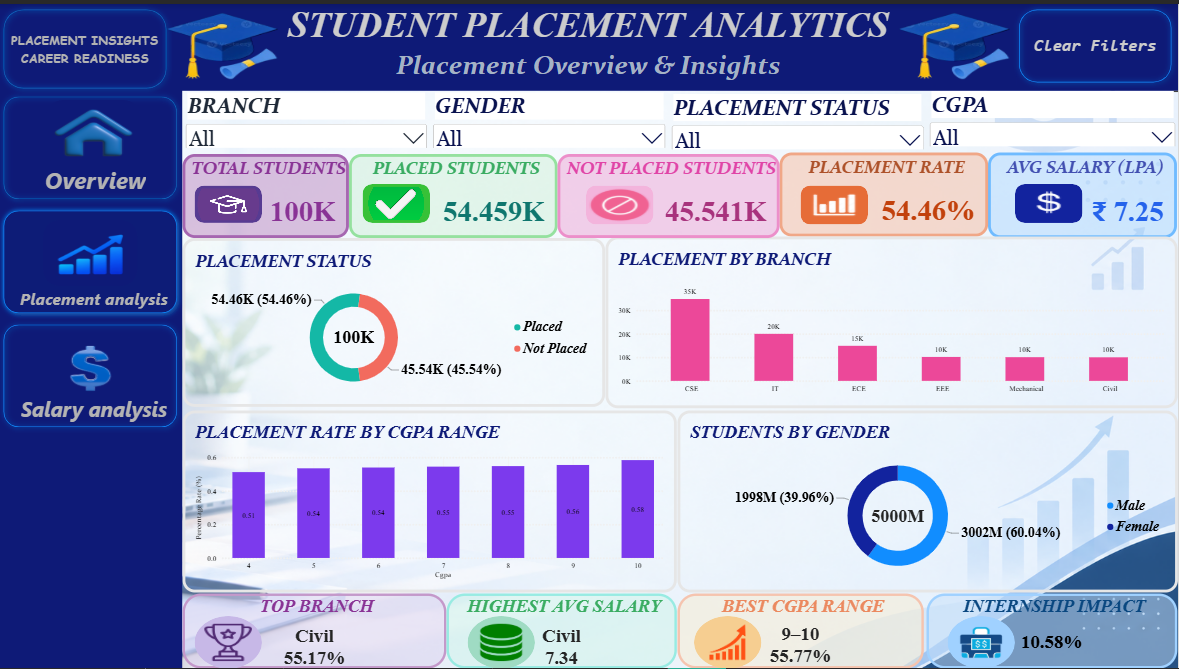

The dashboard page shown, as its layout file describes it:
{"tool":"powerbi","page":{"name":"Overview","canvas":[1920,1080],"ordinal":0},"visuals":[{"type":"textbox","title":"STUDENT PLACEMENT ANALYTICS","box":[0,0,1920,142.5],"z":0},{"type":"textbox","title":"Placement Overview & Insights","box":[0,72.5,1920,70],"z":1000},{"type":"slicer","fields":{"Values":["Full_dataset_student_placement_prediction_dataset_2026.branch"]},"box":[300.1,143.9,402.6,90.3],"z":2000},{"type":"slicer","fields":{"Values":["Full_dataset_student_placement_prediction_dataset_2026.gender"]},"box":[702.7,143.9,387.9,90.3],"z":3000},{"type":"cardVisual","title":"TOTAL STUDENTS","fields":{"Data":["CountNonNull(Full_dataset_student_placement_prediction_dataset_2026.student_id)"]},"box":[300.1,244,270.8,136.6],"z":4000},{"type":"slicer","fields":{"Values":["Full_dataset_student_placement_prediction_dataset_2026.placement_status"]},"box":[1090.6,146.4,419.6,90.3],"z":5000},{"type":"cardVisual","title":"PLACED STUDENTS","fields":{"Data":["CountNonNull(Full_dataset_student_placement_prediction_dataset_2026.student_id)"]},"box":[570.9,244,339.1,136.6],"z":6000},{"type":"cardVisual","title":"AVG SALARY (LPA)","fields":{"Data":["Avg(Full_dataset_student_placement_prediction_dataset_2026.salary_package_lpa)"]},"box":[1610.3,241.5,307.4,139.1],"z":7000},{"type":"cardVisual","title":"PLACEMENT RATE","fields":{"Data":["Full_dataset_student_placement_prediction_dataset_2026.Placement Rate"]},"box":[1271.1,241.5,339.1,136.6],"z":8000},{"type":"donutChart","title":"PLACEMENT STATUS","fields":{"Category":["Full_dataset_student_placement_prediction_dataset_2026.placement_status"],"Y":["CountNonNull(Full_dataset_student_placement_prediction_dataset_2026.student_id)"]},"box":[300.6,381.7,687.1,274.4],"z":9000},{"type":"clusteredColumnChart","title":"PLACEMENT BY BRANCH","fields":{"Category":["Full_dataset_student_placement_prediction_dataset_2026.branch"],"Y":["CountNonNull(Full_dataset_student_placement_prediction_dataset_2026.placement_status)"]},"box":[987.8,379.4,930.5,279.2],"z":10000},{"type":"clusteredColumnChart","title":"PLACEMENT RATE BY CGPA RANGE","fields":{"Category":["Full_dataset_student_placement_prediction_dataset_2026.cgpa (bins)"],"Y":["Full_dataset_student_placement_prediction_dataset_2026.Placement Rate"]},"box":[300.6,660.9,804.1,295.9],"z":11000},{"type":"shape","box":[0,136.6,300.1,944.2],"z":12000},{"type":"actionButton","box":[0,141.5,300,185],"z":13000},{"type":"actionButton","box":[0,326.9,300,185],"z":14000},{"type":"cardVisual","title":"TOP BRANCH","fields":{"Data":["Full_dataset_student_placement_prediction_dataset_2026.Top Branch","Full_dataset_student_placement_prediction_dataset_2026.Top Branch Placement Rate"]},"box":[300.1,958.8,429.4,122],"z":15000},{"type":"actionButton","box":[0,512.4,300,185],"z":16000},{"type":"cardVisual","title":"HIGHEST AVG SALARY","fields":{"Data":["Full_dataset_student_placement_prediction_dataset_2026.Highest Avg Salary Branch","Full_dataset_student_placement_prediction_dataset_2026.Highest Avg Salary","select"]},"box":[730.1,959.1,374.6,121.7],"z":17000},{"type":"cardVisual","title":"BEST CGPA RANGE","fields":{"Data":["Full_dataset_student_placement_prediction_dataset_2026.Best CGPA Range","Full_dataset_student_placement_prediction_dataset_2026.Best CGPA Placement Rate"]},"box":[1104.7,959.1,400.8,121.7],"z":18000},{"type":"cardVisual","title":"INTERNSHIP IMPACT","fields":{"Data":["Full_dataset_student_placement_prediction_dataset_2026.Internship Impact"]},"box":[1510.2,958.8,408,121.7],"z":19000},{"type":"actionButton","box":[592.9,292.8,109.8,63.4],"z":20000},{"type":"actionButton","box":[319.6,295.2,109.8,61],"z":21000},{"type":"actionButton","box":[1305.3,295.2,109.8,63.4],"z":22000},{"type":"actionButton","box":[1654.2,292.8,109.8,63.4],"z":23000},{"type":"actionButton","box":[1543.7,994.9,109.8,85.9],"z":24000},{"type":"actionButton","box":[763.5,994.9,109.8,85.9],"z":25000},{"type":"actionButton","box":[1130.9,994.9,109.8,85.9],"z":26000},{"type":"actionButton","box":[319.7,994.9,109.8,85.9],"z":27000},{"type":"actionButton","box":[263.5,0,202.5,136.6],"z":28000},{"type":"donutChart","title":"STUDENTS BY GENDER","fields":{"Category":["Full_dataset_student_placement_prediction_dataset_2026.gender"],"Y":["Sum(Full_dataset_student_placement_prediction_dataset_2026.student_id)"]},"box":[1105,661,814,296],"z":29000},{"type":"actionButton","box":[1454.1,0,202.5,136.6],"z":30000},{"type":"actionButton","box":[1651.8,0,265.9,136.6],"z":31000},{"type":"shape","box":[0,0,283,146.4],"z":32000},{"type":"cardVisual","title":"NOT PLACED STUDENTS","fields":{"Data":["Full_dataset_student_placement_prediction_dataset_2026.Not Placed Students"]},"box":[910.1,244,361.1,136.6],"z":33000},{"type":"actionButton","box":[956.4,295.2,109.8,63.4],"z":34000},{"type":"slicer","fields":{"Values":["Full_dataset_student_placement_prediction_dataset_2026.cgpa (bins)"]},"box":[1510.1,141.5,409.9,90.3],"z":35000},{"type":"actionButton","box":[73.2,539.2,153.7,107.4],"z":37001},{"type":"actionButton","box":[78.1,156.1,153.7,107.4],"z":37002},{"type":"actionButton","box":[73.2,351.3,153.7,107.4],"z":37003}]}

Visuals, with their boxes in screenshot pixels (x1, y1, x2, y2), scaled from the page's 1920x1080 canvas onto the 1179x669 screenshot:
"STUDENT PLACEMENT ANALYTICS" textbox: detection(0, 0, 1178, 88)
"Placement Overview & Insights" textbox: detection(0, 45, 1178, 88)
slicer - Full_dataset_student_placement_prediction_dataset_2026.branch: detection(184, 89, 432, 145)
slicer - Full_dataset_student_placement_prediction_dataset_2026.gender: detection(432, 89, 670, 145)
"TOTAL STUDENTS" cardVisual: detection(184, 151, 351, 236)
slicer - Full_dataset_student_placement_prediction_dataset_2026.placement_status: detection(670, 91, 927, 147)
"PLACED STUDENTS" cardVisual: detection(351, 151, 559, 236)
"AVG SALARY (LPA)" cardVisual: detection(989, 150, 1178, 236)
"PLACEMENT RATE" cardVisual: detection(781, 150, 989, 234)
"PLACEMENT STATUS" donutChart: detection(185, 236, 607, 406)
"PLACEMENT BY BRANCH" clusteredColumnChart: detection(607, 235, 1178, 408)
"PLACEMENT RATE BY CGPA RANGE" clusteredColumnChart: detection(185, 409, 678, 593)
shape: detection(0, 85, 184, 668)
actionButton: detection(0, 88, 184, 202)
actionButton: detection(0, 202, 184, 317)
"TOP BRANCH" cardVisual: detection(184, 594, 448, 668)
actionButton: detection(0, 317, 184, 432)
"HIGHEST AVG SALARY" cardVisual: detection(448, 594, 678, 668)
"BEST CGPA RANGE" cardVisual: detection(678, 594, 924, 668)
"INTERNSHIP IMPACT" cardVisual: detection(927, 594, 1178, 668)
actionButton: detection(364, 181, 432, 221)
actionButton: detection(196, 183, 264, 221)
actionButton: detection(802, 183, 869, 222)
actionButton: detection(1016, 181, 1083, 221)
actionButton: detection(948, 616, 1015, 668)
actionButton: detection(469, 616, 536, 668)
actionButton: detection(694, 616, 762, 668)
actionButton: detection(196, 616, 264, 668)
actionButton: detection(162, 0, 286, 85)
"STUDENTS BY GENDER" donutChart: detection(679, 409, 1178, 593)
actionButton: detection(893, 0, 1017, 85)
actionButton: detection(1014, 0, 1178, 85)
shape: detection(0, 0, 174, 91)
"NOT PLACED STUDENTS" cardVisual: detection(559, 151, 781, 236)
actionButton: detection(587, 183, 655, 222)
slicer - Full_dataset_student_placement_prediction_dataset_2026.cgpa (bins): detection(927, 88, 1178, 144)
actionButton: detection(45, 334, 139, 401)
actionButton: detection(48, 97, 142, 163)
actionButton: detection(45, 218, 139, 284)
